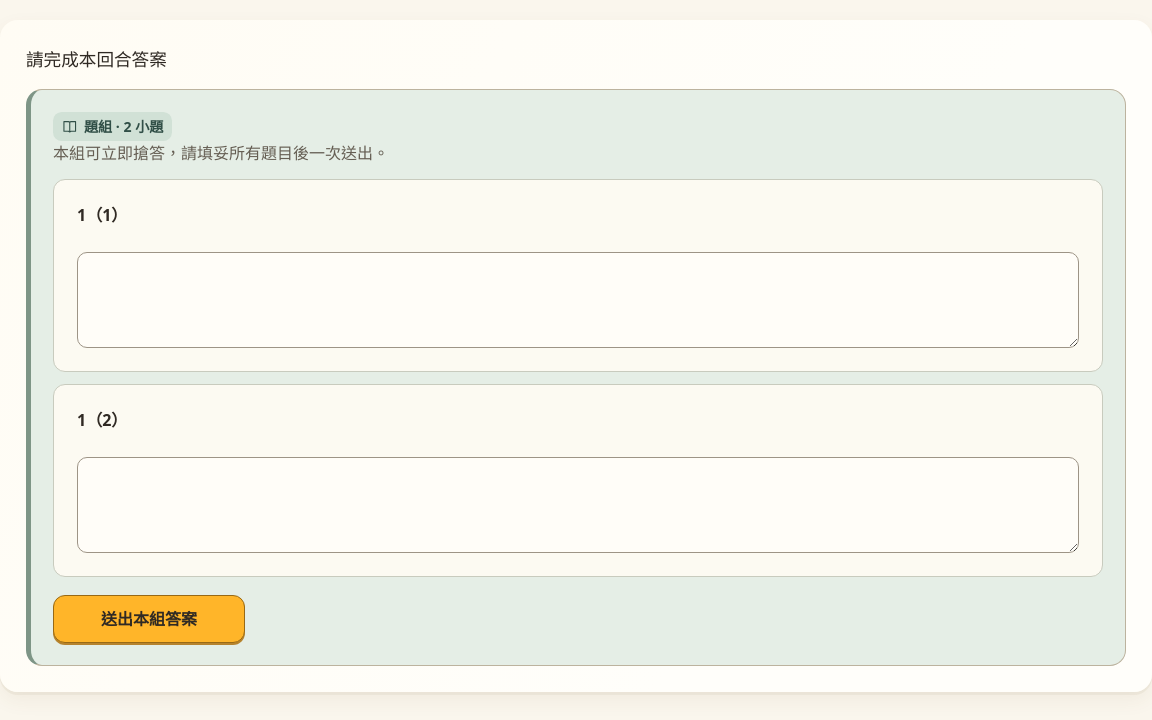
Scenario: 送答回應遺失只重讀快照，不自動重送；另一畫面收件後停用修改
The image size is (1152, 720).
Later steps or results of the test are not shown.
Click the button "送出本組答案": click(149, 619) [53,594,245,643]
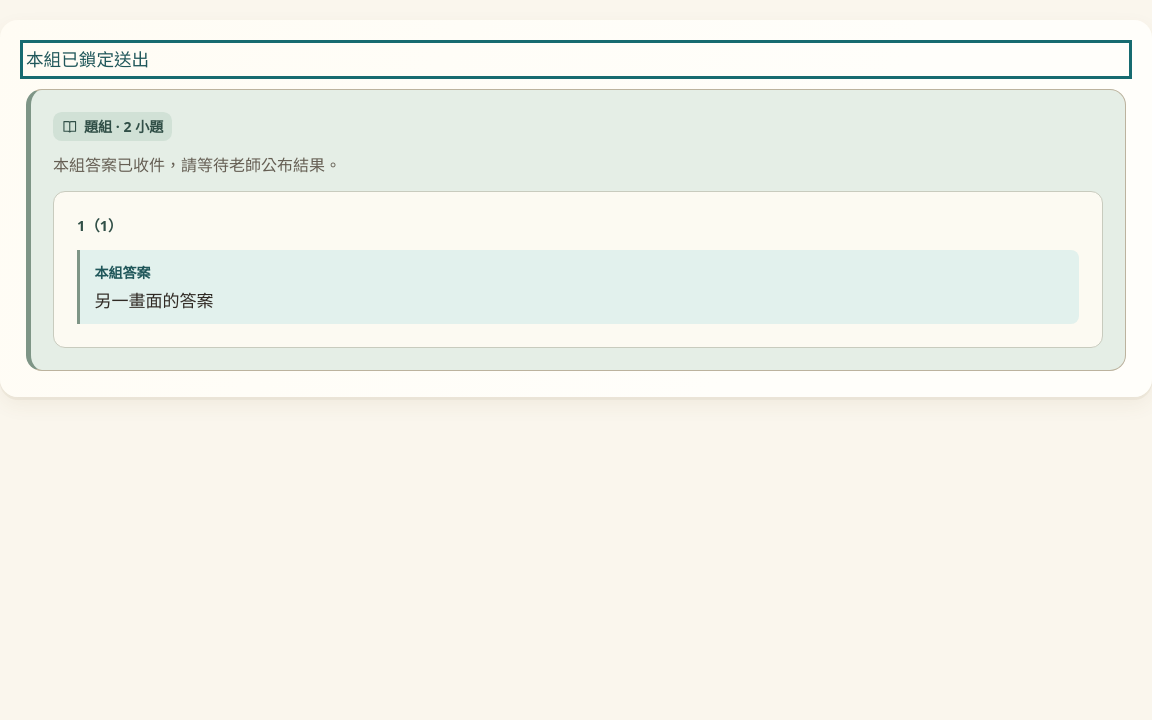
Now the text "另一畫面的答案" is shown, box [94,289,213,312]
Now the text box is gone
